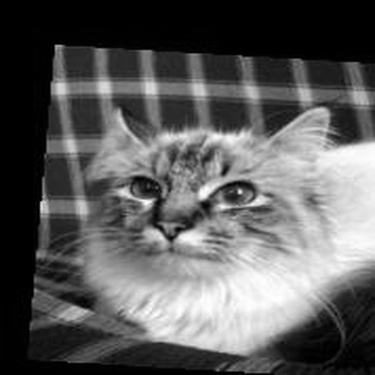cat: (81, 102, 370, 360)
